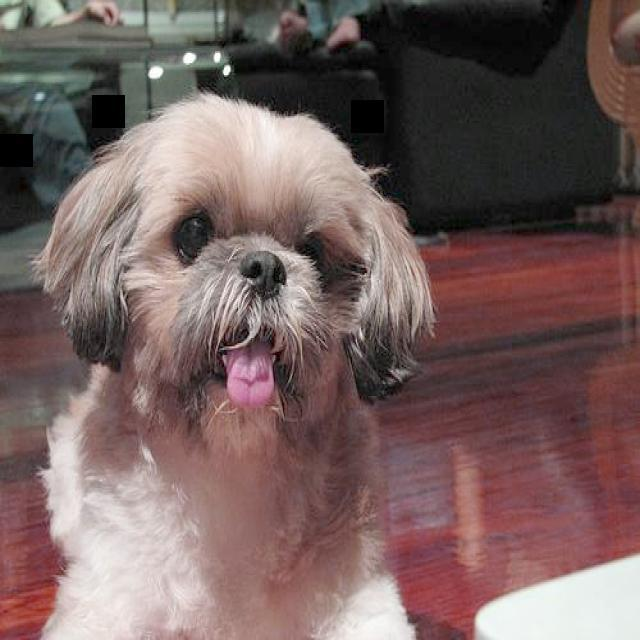adult_dog: (24, 89, 439, 640)
